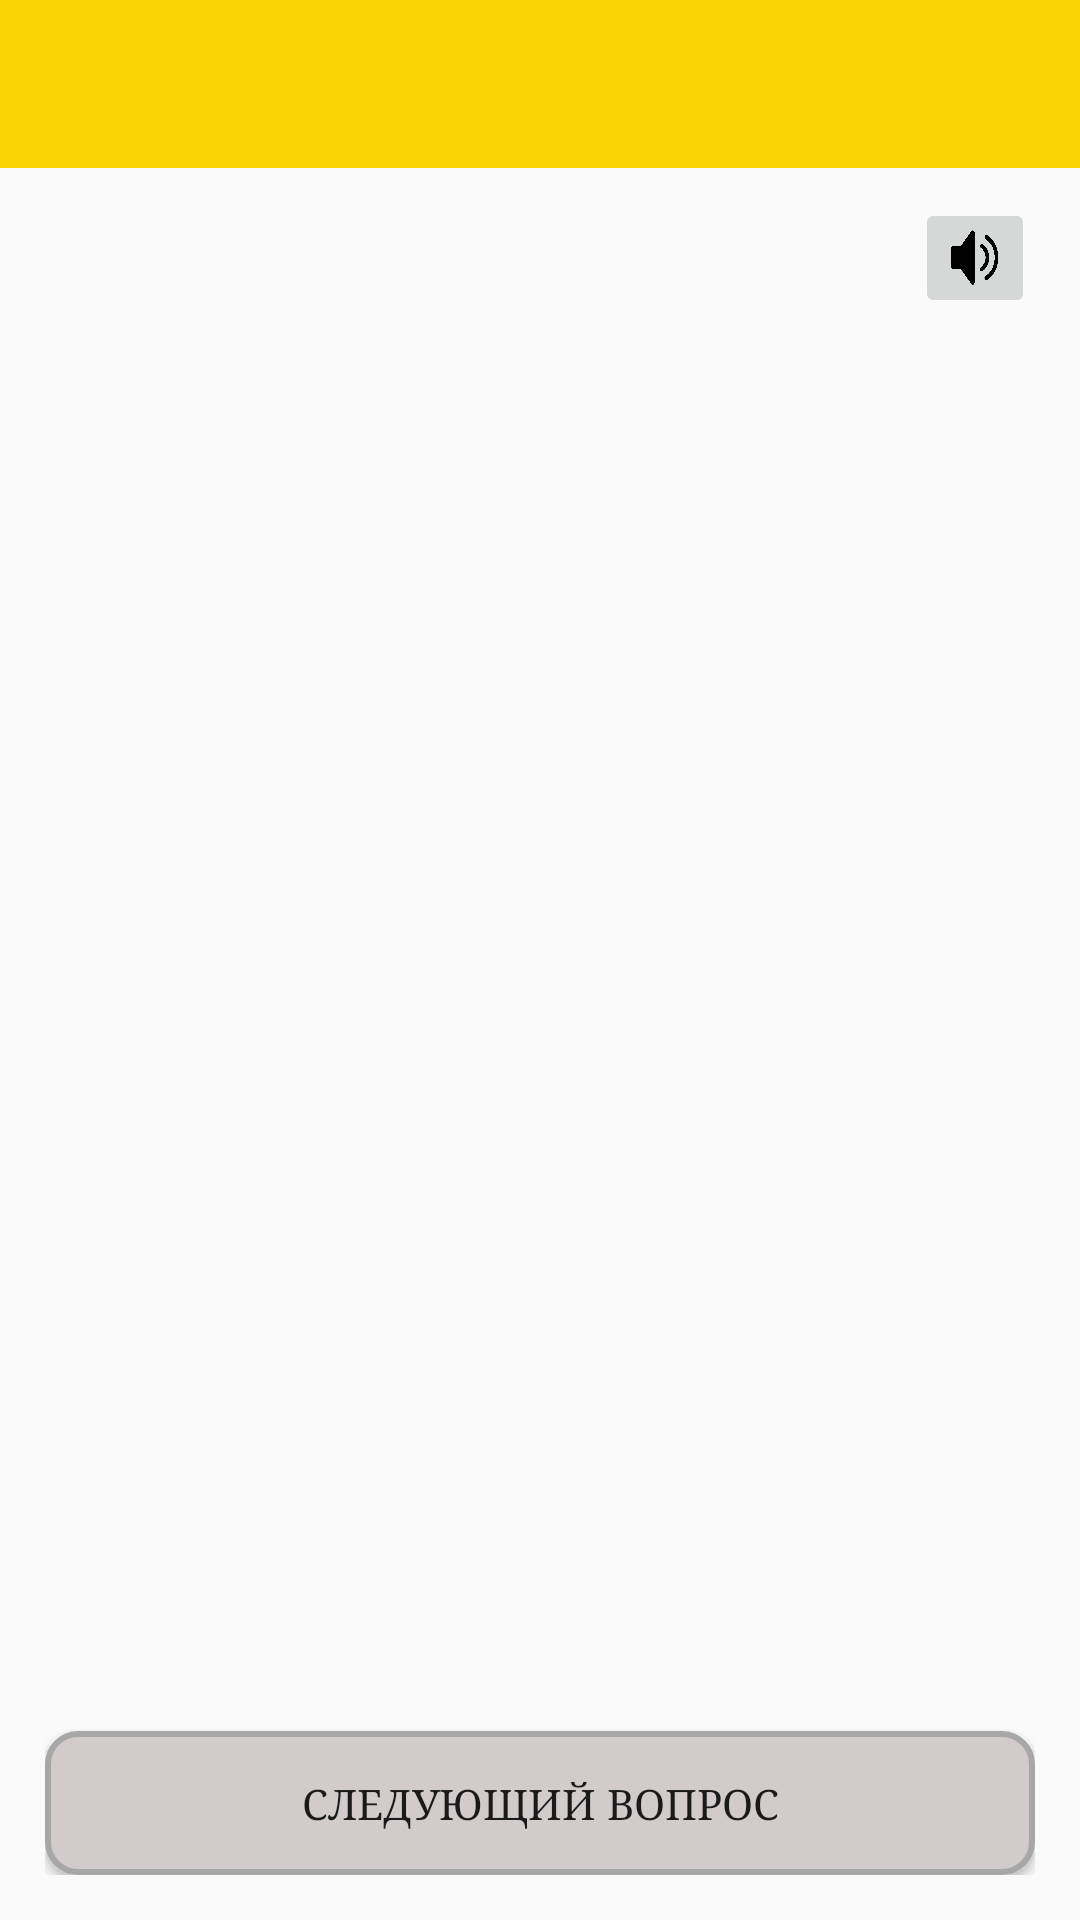

Screen size 1080 × 1920. Icon name, then its center in pixels as [x,y]:
sound: [975,258]
